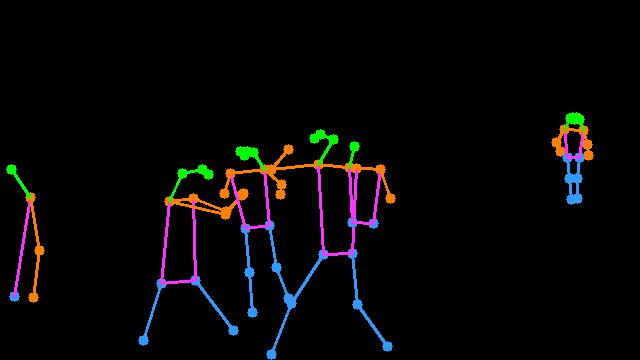normal: (534, 77, 612, 238)
